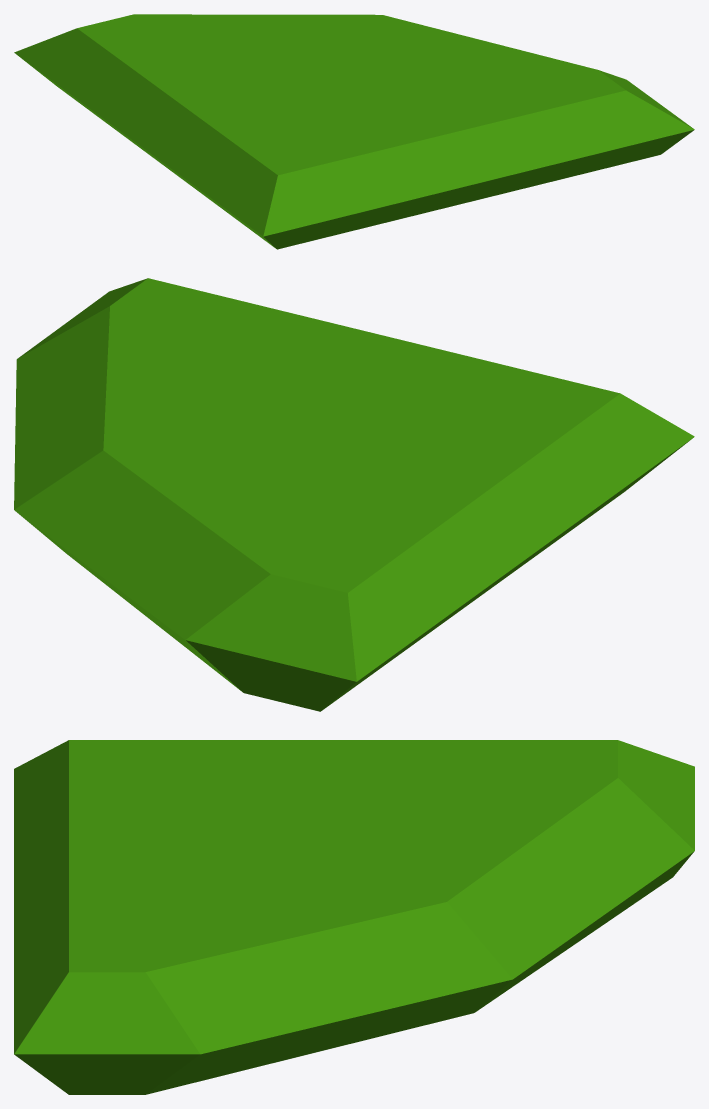
File: OverhangCorner.fbx
3 renders of one model, top to bottom at view 1: azimuth 30°, elevation 25°; view 2: azimuth 150°, elevation 25°; view 3: azimuth 270°, elevation 25°, orthographic. The views are drawn at different scales.
Visible parts, largest first — view 1: OverhangCorner; view 2: OverhangCorner; view 3: OverhangCorner.
Part boxes in pixels (x1,y1,x2,y2): OverhangCorner: [14, 14, 694, 249]; OverhangCorner: [14, 278, 694, 711]; OverhangCorner: [14, 740, 694, 1094].
Size of the model in its own units: 0.62 by 0.1 by 0.62.
